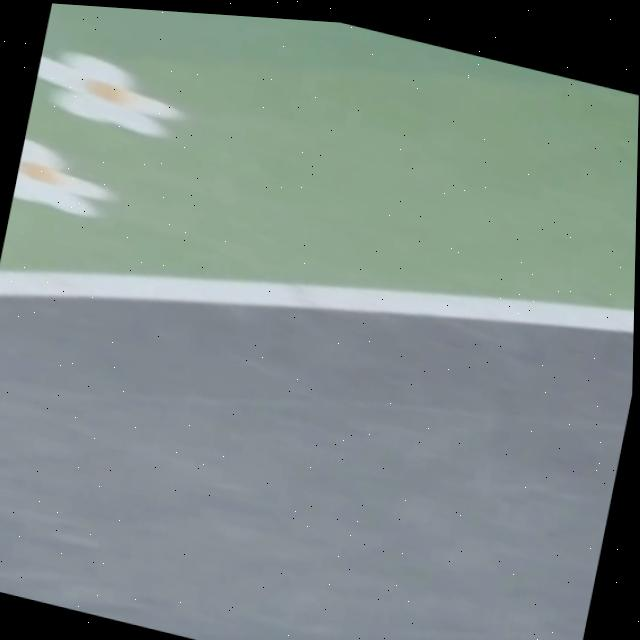right: (0, 270, 634, 333)
